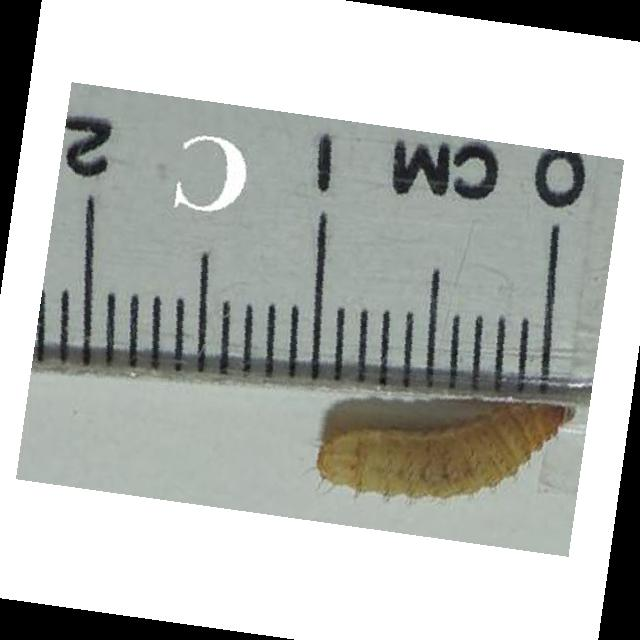Maggot: (311, 405, 577, 496)
